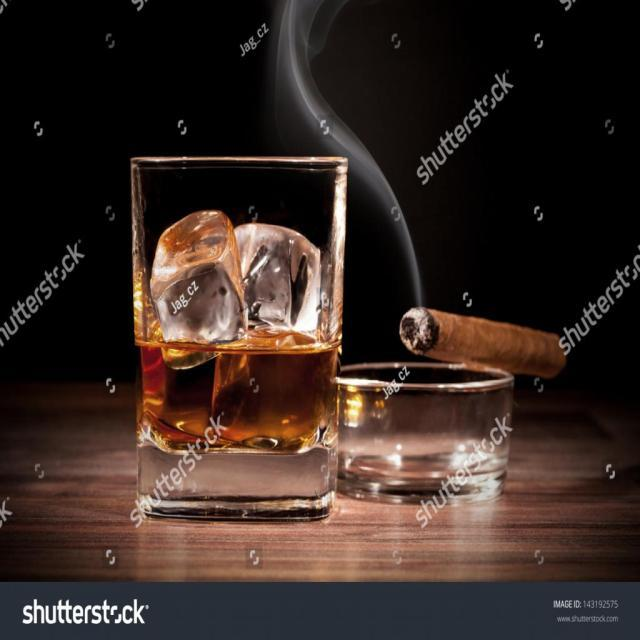smoking: (395, 303, 573, 384)
